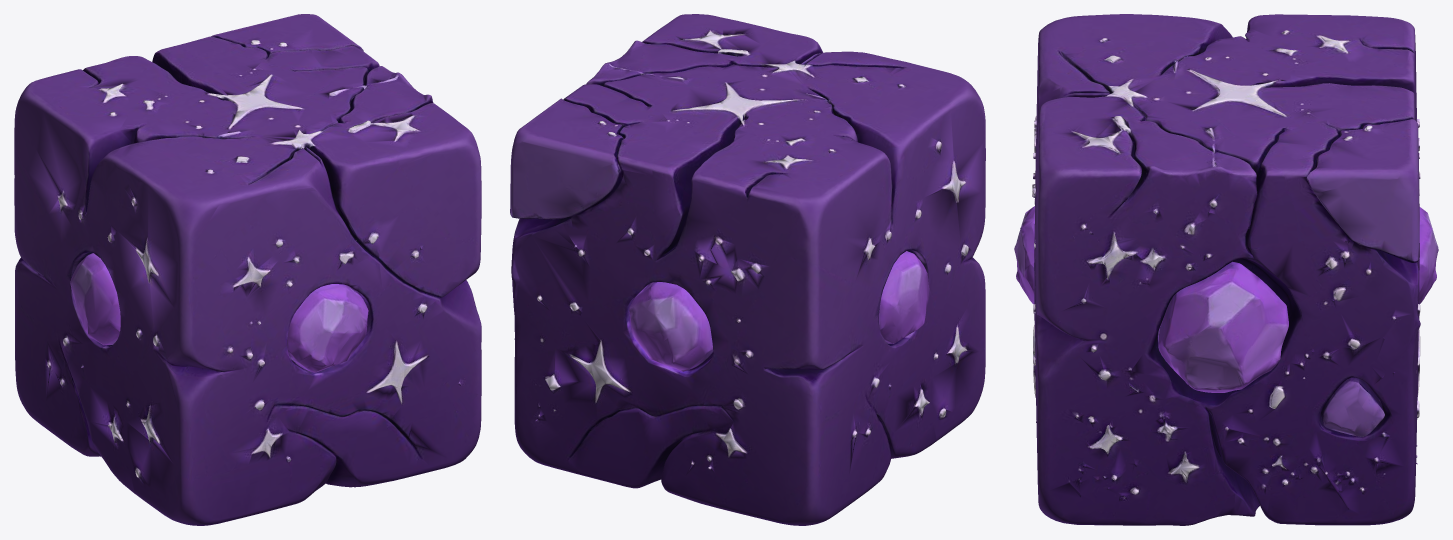
File: star_jewel.glb
3 views of the same model, side by side, from view 1: azimuth 30°, elevation 25°; view 2: azimuth 150°, elevation 25°; view 3: azimuth 270°, elevation 25° (orthographic). The views are drawn at different scales.
Visible parts, largest first — view 1: tripo_node_76232aae-3190-4be4-8fc0-67db05435844; view 2: tripo_node_76232aae-3190-4be4-8fc0-67db05435844; view 3: tripo_node_76232aae-3190-4be4-8fc0-67db05435844.
Part boxes in pixels (x1=…): tripo_node_76232aae-3190-4be4-8fc0-67db05435844: x1=14, y1=14, x2=481, y2=525; tripo_node_76232aae-3190-4be4-8fc0-67db05435844: x1=510, y1=14, x2=985, y2=525; tripo_node_76232aae-3190-4be4-8fc0-67db05435844: x1=1014, y1=14, x2=1438, y2=525.
Size of the model in its own units: 0.9797 by 0.9007 by 0.9524.
1 material, 1 textured.
